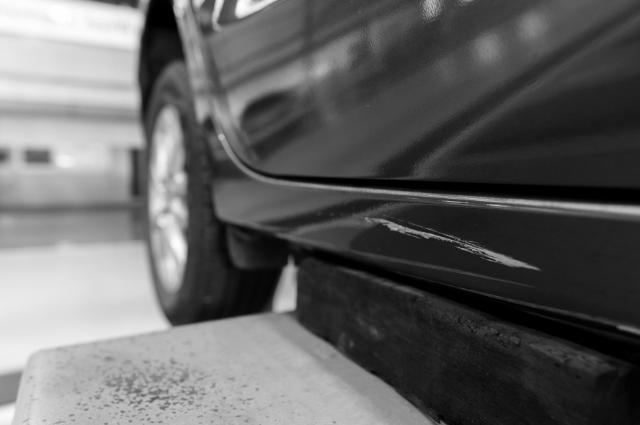Door: (335, 186, 571, 297)
